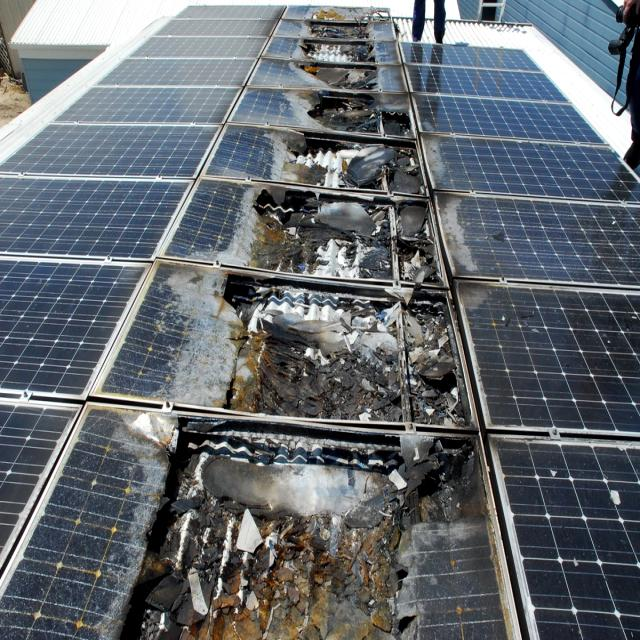shadow: (96, 402, 469, 640), (201, 261, 478, 432), (230, 175, 450, 293), (254, 123, 426, 186), (294, 2, 392, 92), (273, 80, 424, 124)
